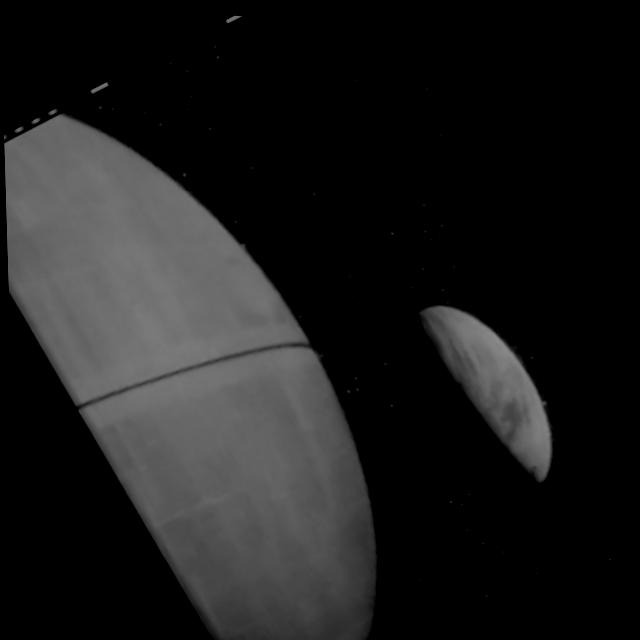death-stars: (3, 116, 378, 640)
